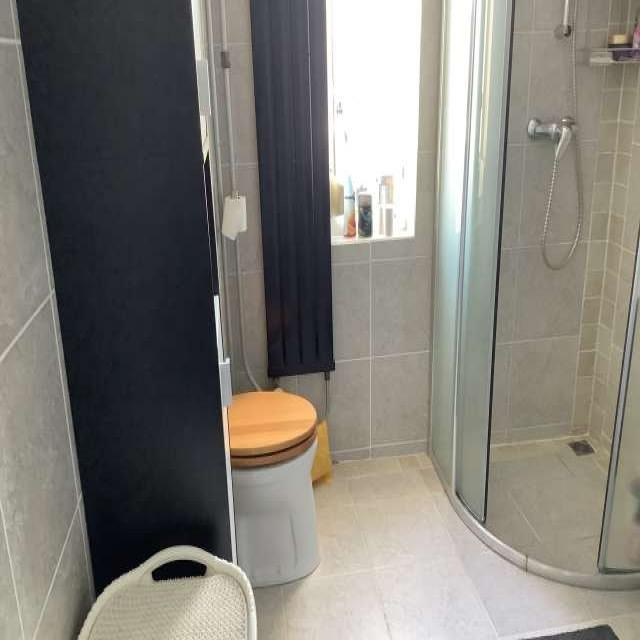douche: (427, 0, 640, 598)
toilet: (222, 386, 324, 594)
